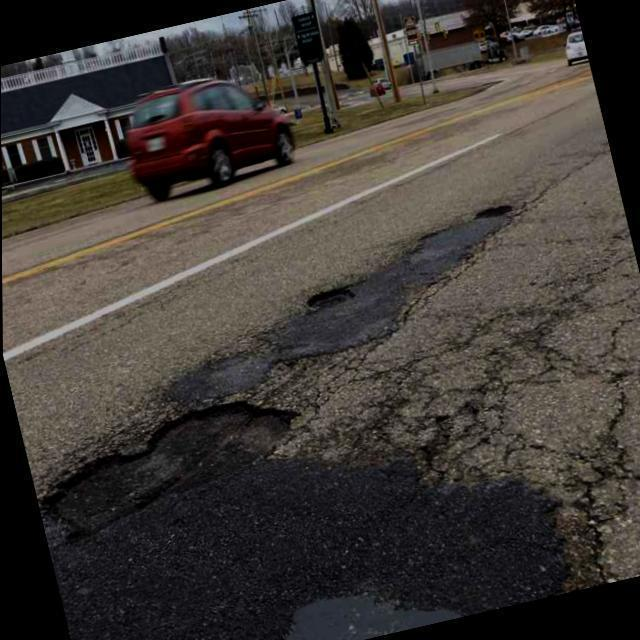Pothole: (47, 398, 295, 543), (306, 285, 354, 311), (477, 203, 511, 221)
